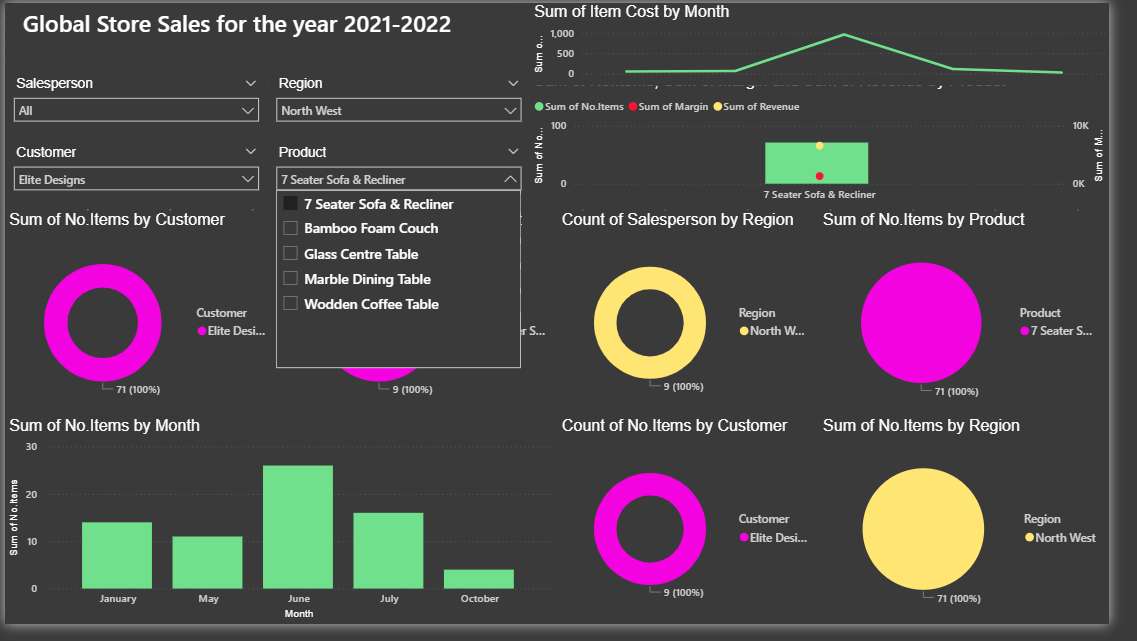

Layout of this report page (visuals, bound fields, positions):
{"tool":"powerbi","page":{"name":"Page 1","canvas":[1280,720],"ordinal":0},"visuals":[{"type":"textbox","box":[16,0,560,80],"z":0},{"type":"donutChart","fields":{"Category":["Raw_Data.Customer"],"Y":["CountNonNull(Raw_Data.No.Items)"]},"box":[640,480,304,240],"z":1000},{"type":"pieChart","fields":{"Category":["Raw_Data.Region"],"Y":["Sum(Raw_Data.No.Items)"]},"box":[944,480,336,240],"z":2000},{"type":"donutChart","fields":{"Category":["Raw_Data.Customer"],"Y":["Sum(Raw_Data.No.Items)"]},"box":[0,240,320,240],"z":3000},{"type":"pieChart","fields":{"Category":["Raw_Data.Product"],"Y":["Sum(Raw_Data.No.Items)"]},"box":[944,240,336,240],"z":4000},{"type":"donutChart","fields":{"Category":["Raw_Data.Region"],"Y":["CountNonNull(Raw_Data.Salesperson)"]},"box":[640,240,304,240],"z":5000},{"type":"slicer","fields":{"Values":["Raw_Data.Product"]},"box":[304,160,304,80],"z":7000},{"type":"slicer","fields":{"Values":["Raw_Data.Customer"]},"box":[0,160,304,80],"z":8000},{"type":"slicer","fields":{"Values":["Raw_Data.Salesperson"]},"box":[0,80,304,80],"z":9000},{"type":"slicer","fields":{"Values":["Raw_Data.Region"]},"box":[304,80,304,80],"z":10000},{"type":"lineClusteredColumnComboChart","fields":{"Category":["Raw_Data.Product"],"Y":["Sum(Raw_Data.No.Items)"],"Y2":["Sum(Raw_Data.Margin)","Sum(Raw_Data.Revenue)"]},"box":[608,80,672,160],"z":11000},{"type":"pieChart","fields":{"Y":["CountNonNull(Raw_Data.Salesperson)"],"Category":["Raw_Data.Product"]},"box":[320,240,320,240],"z":12000},{"type":"lineChart","fields":{"Category":["Raw_Data.Date.Variation.Date Hierarchy.Month"],"Y":["Sum(Raw_Data.Item Cost)"]},"box":[608,0,672,96],"z":13000},{"type":"clusteredColumnChart","fields":{"Category":["Raw_Data.Date.Variation.Date Hierarchy.Month"],"Y":["Sum(Raw_Data.No.Items)"]},"box":[0,480,640,240],"z":14000}]}

Visuals, with their boxes in screenshot pixels (x1, y1, x2, y2), scaled from the page's 1280x720 canvas onto the 1137x641 screenshot:
textbox: rect(14, 0, 512, 71)
donutChart - Raw_Data.Customer x CountNonNull(Raw_Data.No.Items): rect(568, 427, 839, 640)
pieChart - Raw_Data.Region x Sum(Raw_Data.No.Items): rect(839, 427, 1136, 640)
donutChart - Raw_Data.Customer x Sum(Raw_Data.No.Items): rect(0, 214, 284, 427)
pieChart - Raw_Data.Product x Sum(Raw_Data.No.Items): rect(839, 214, 1136, 427)
donutChart - Raw_Data.Region x CountNonNull(Raw_Data.Salesperson): rect(568, 214, 839, 427)
slicer - Raw_Data.Product: rect(270, 142, 540, 214)
slicer - Raw_Data.Customer: rect(0, 142, 270, 214)
slicer - Raw_Data.Salesperson: rect(0, 71, 270, 142)
slicer - Raw_Data.Region: rect(270, 71, 540, 142)
lineClusteredColumnComboChart - Raw_Data.Product x Sum(Raw_Data.No.Items): rect(540, 71, 1136, 214)
pieChart - CountNonNull(Raw_Data.Salesperson) x Raw_Data.Product: rect(284, 214, 568, 427)
lineChart - Raw_Data.Date.Variation.Date Hierarchy.Month x Sum(Raw_Data.Item Cost): rect(540, 0, 1136, 85)
clusteredColumnChart - Raw_Data.Date.Variation.Date Hierarchy.Month x Sum(Raw_Data.No.Items): rect(0, 427, 568, 640)
